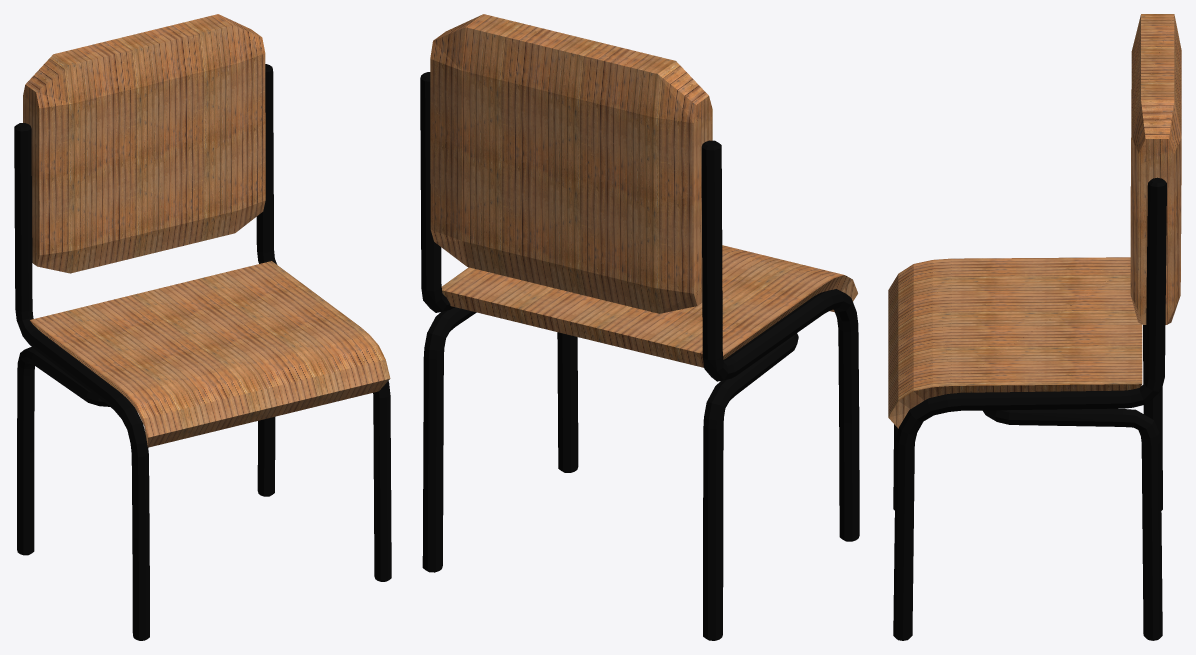
Rendered from chair5.obj.
3 views of the same model, side by side, from view 1: azimuth 30°, elevation 25°; view 2: azimuth 150°, elevation 25°; view 3: azimuth 270°, elevation 25° (orthographic). The views are drawn at different scales.
Visible parts, largest first — view 1: Object.1; view 2: Object.1; view 3: Object.1.
Boxes of the visible parts, <box> form: Object.1: <box>14,14,391,640</box>; Object.1: <box>420,14,859,640</box>; Object.1: <box>888,14,1181,640</box>.
Size of the model in its own units: 7 by 12.55 by 6.45.
2 materials, 1 textured.
